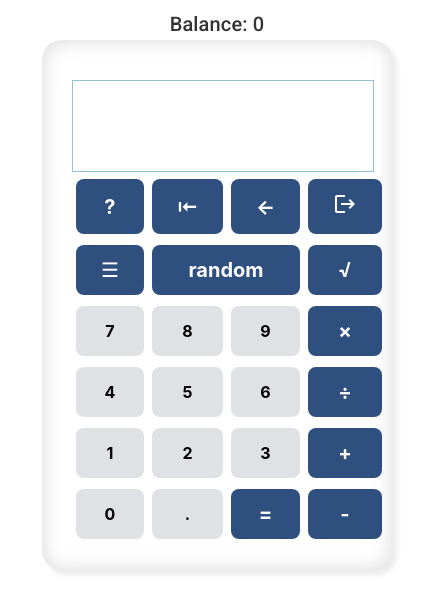
Test: App Component › clicks the logout button
This screenshot has width=435, height=592.
Click the button named "Logout esc key": (345, 206) [308,179,382,234]
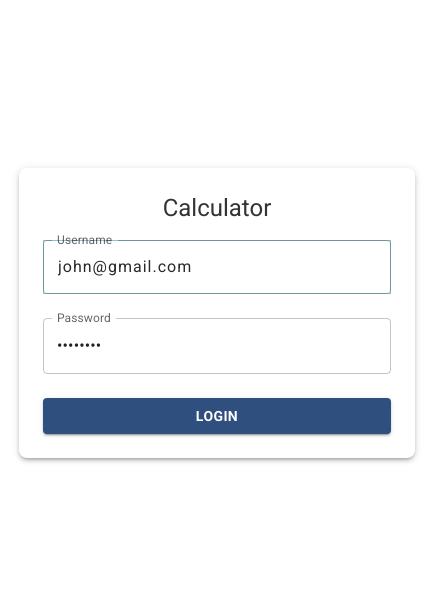
Now the button "Login" is shown, box [43,398,391,434]
Now the heading "Balance" is gone
